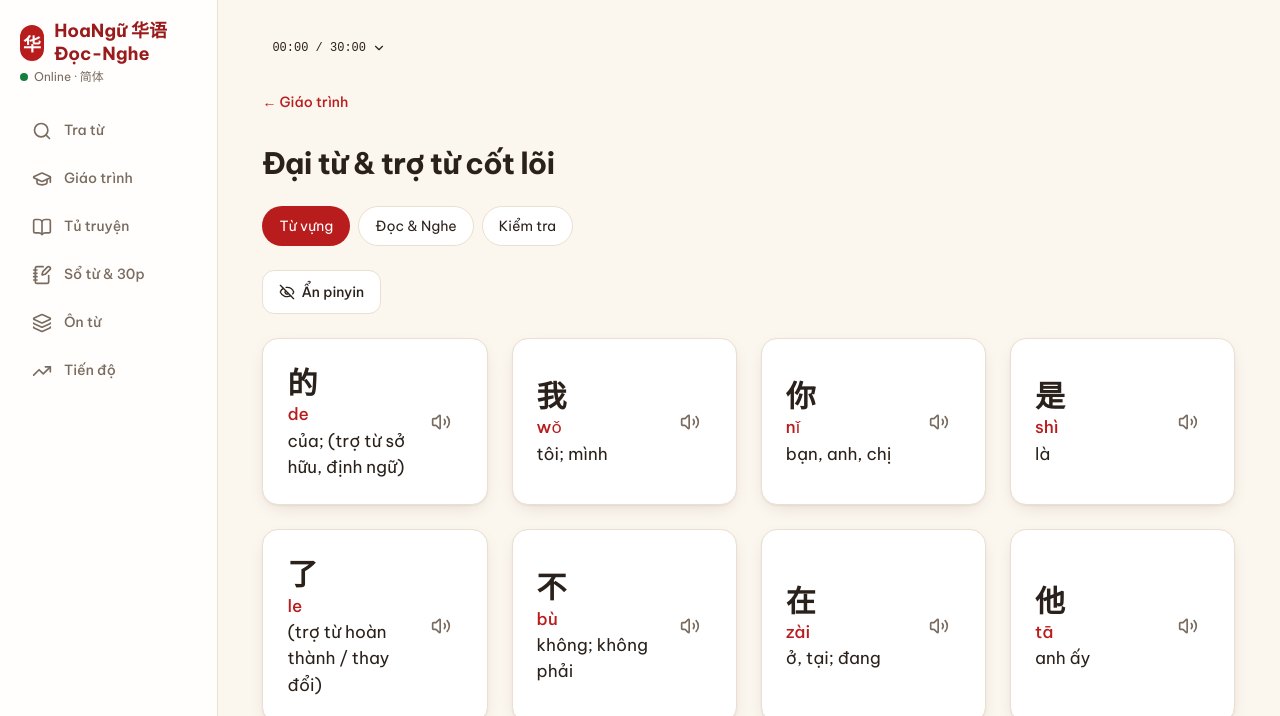
Giáo trình UI › nút Ẩn/Hiện pinyin ở phần từ vựng
Expected: the text "wǒ" is shown, left=537, top=416, right=562, bottom=438
Click the button "Ẩn pinyin" at (322, 292), box left=262, top=270, right=381, bottom=314
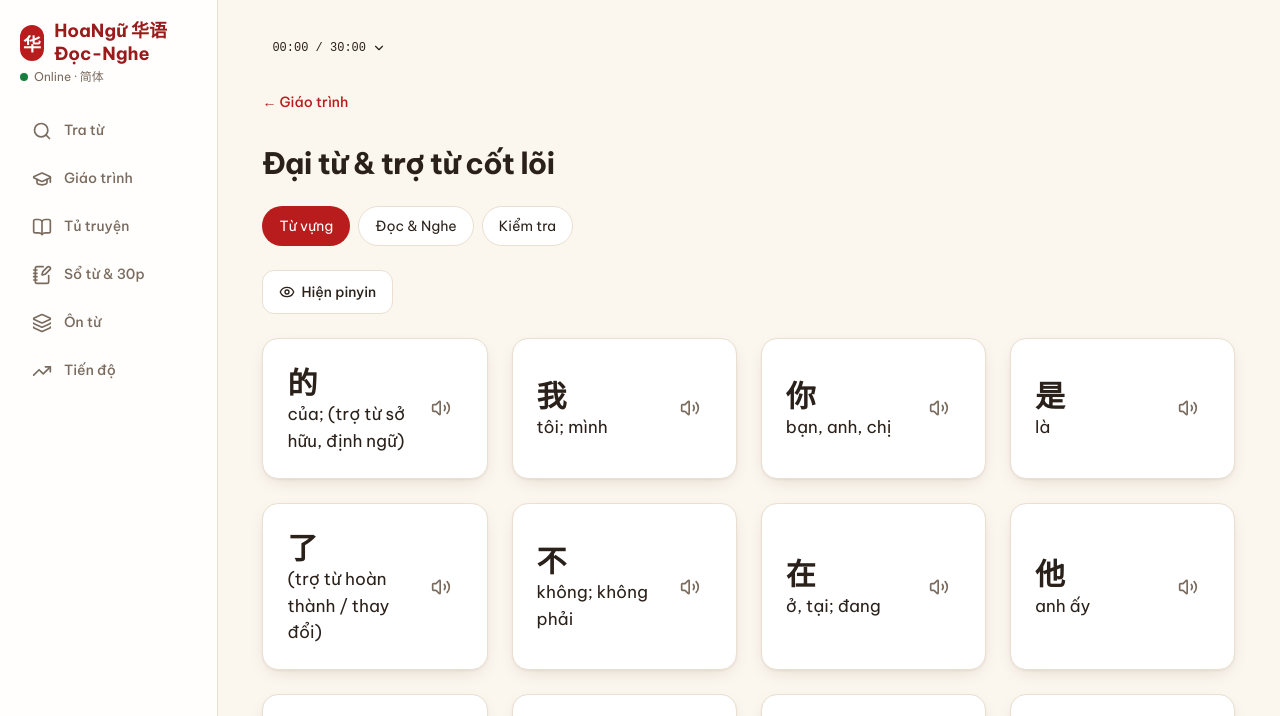
Expected: the text "wǒ" is gone
Click the button "Hiện pinyin" at (328, 292), box left=262, top=270, right=393, bottom=314
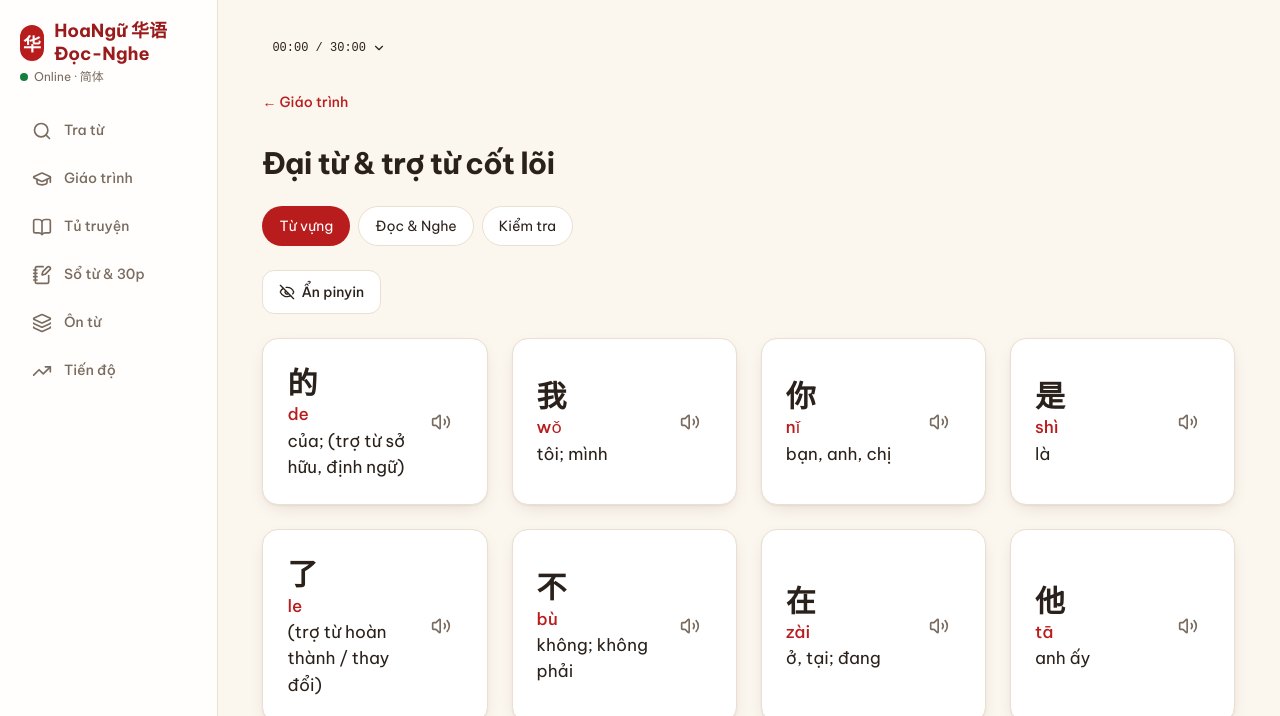
Expected: the text "wǒ" is shown, left=537, top=416, right=562, bottom=438
